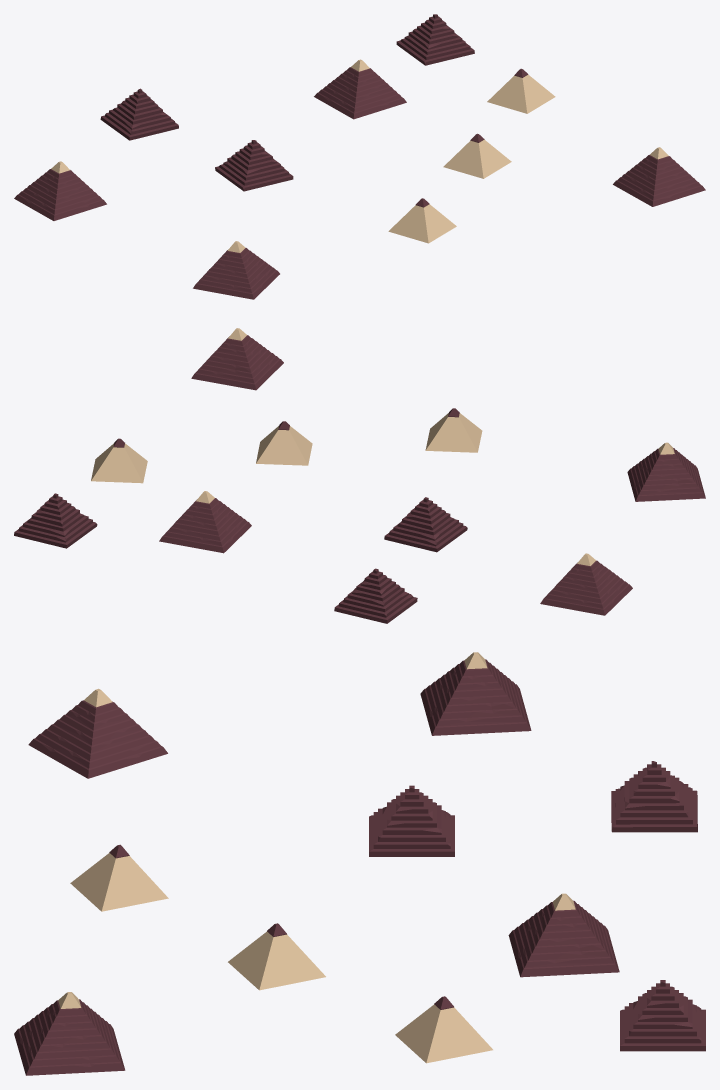
The model's file is Background2.fbx.
The picture shows the model from 3 angles, top to bottom: view 1: azimuth 30°, elevation 25°; view 2: azimuth 150°, elevation 25°; view 3: azimuth 270°, elevation 25°; orthographic projection. The views are drawn at different scales.
Visible parts, largest first — view 1: pyramid.003; view 2: pyramid.003; view 3: pyramid.003.
Boxes of the visible parts, x1,y1,x2,y2 form: pyramid.003: [14, 14, 705, 299]; pyramid.003: [14, 328, 705, 623]; pyramid.003: [14, 652, 705, 1075].
Size of the model in its own units: 548 by 39.14 by 414.
